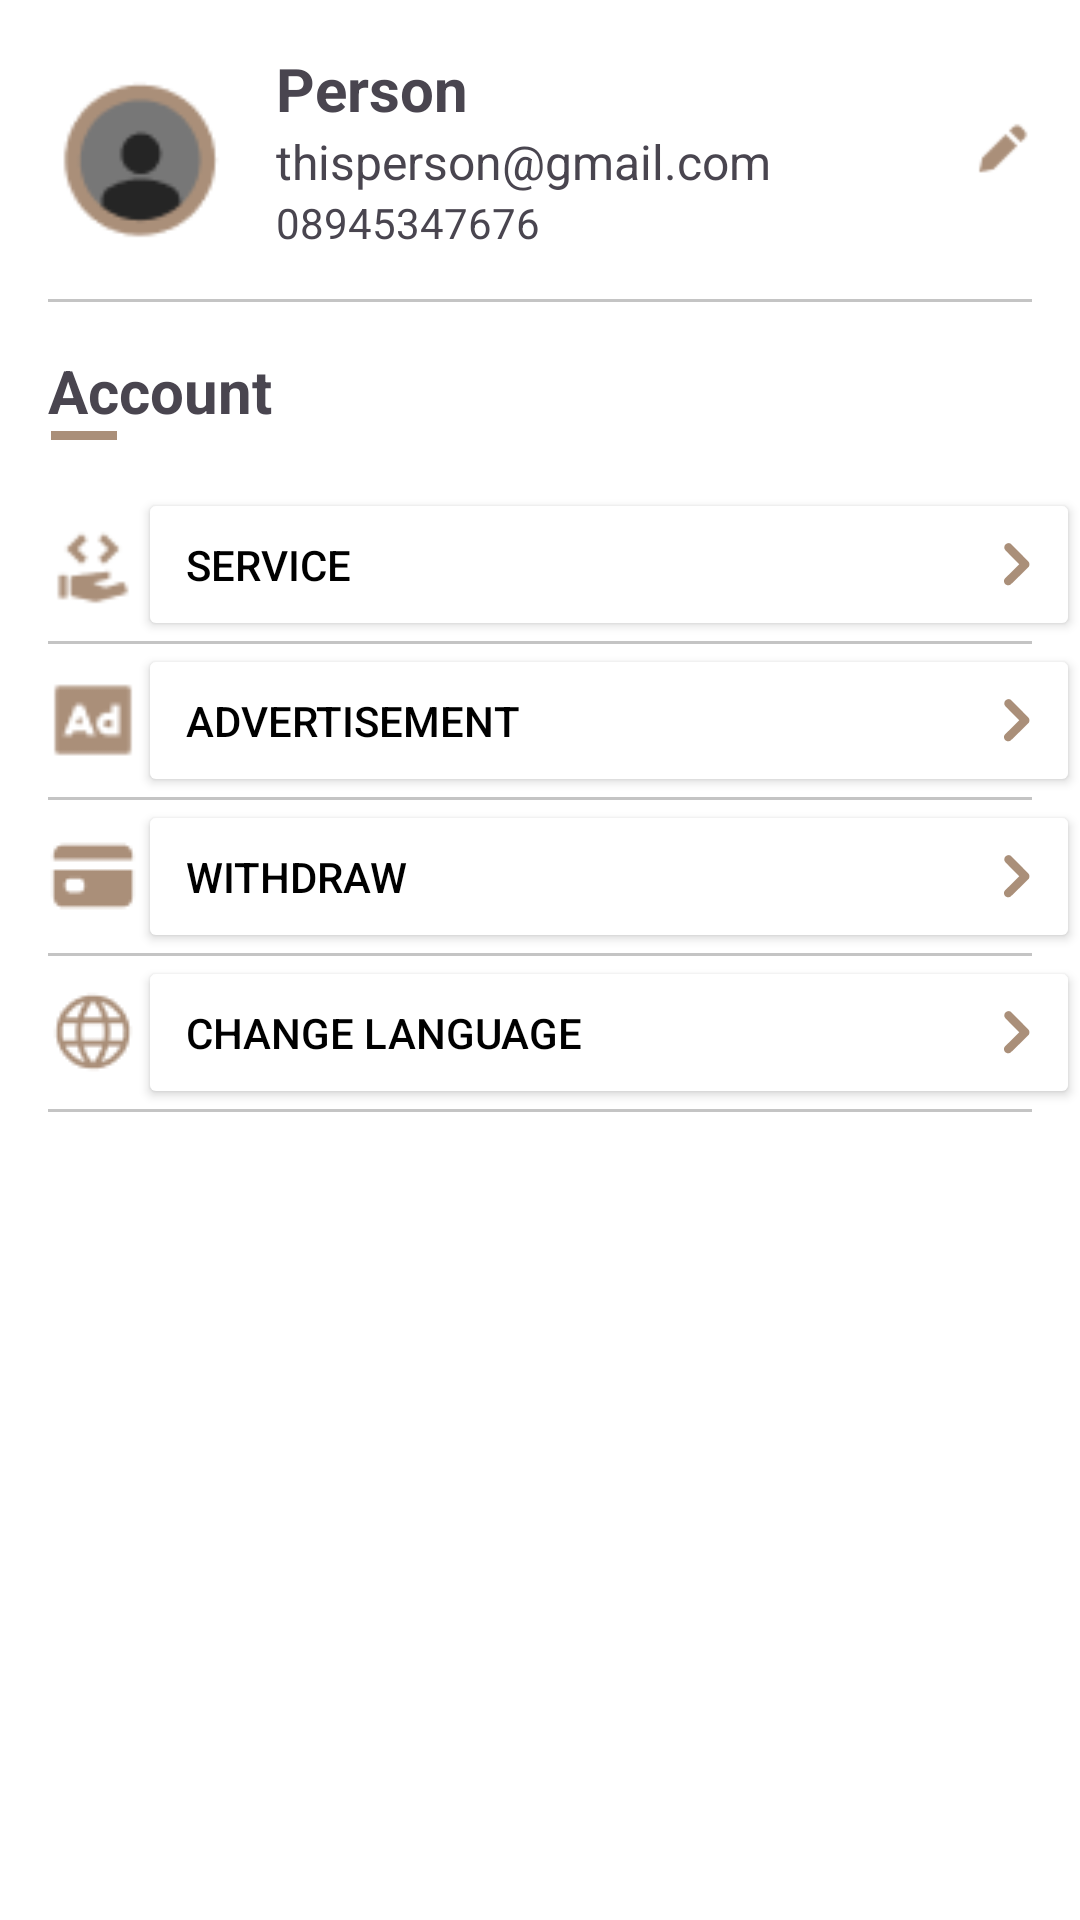

Named icons in this screenshot (1080x1920) and their centers, point (x, y):
payment: point (93, 876)
pencil: point (1003, 148)
